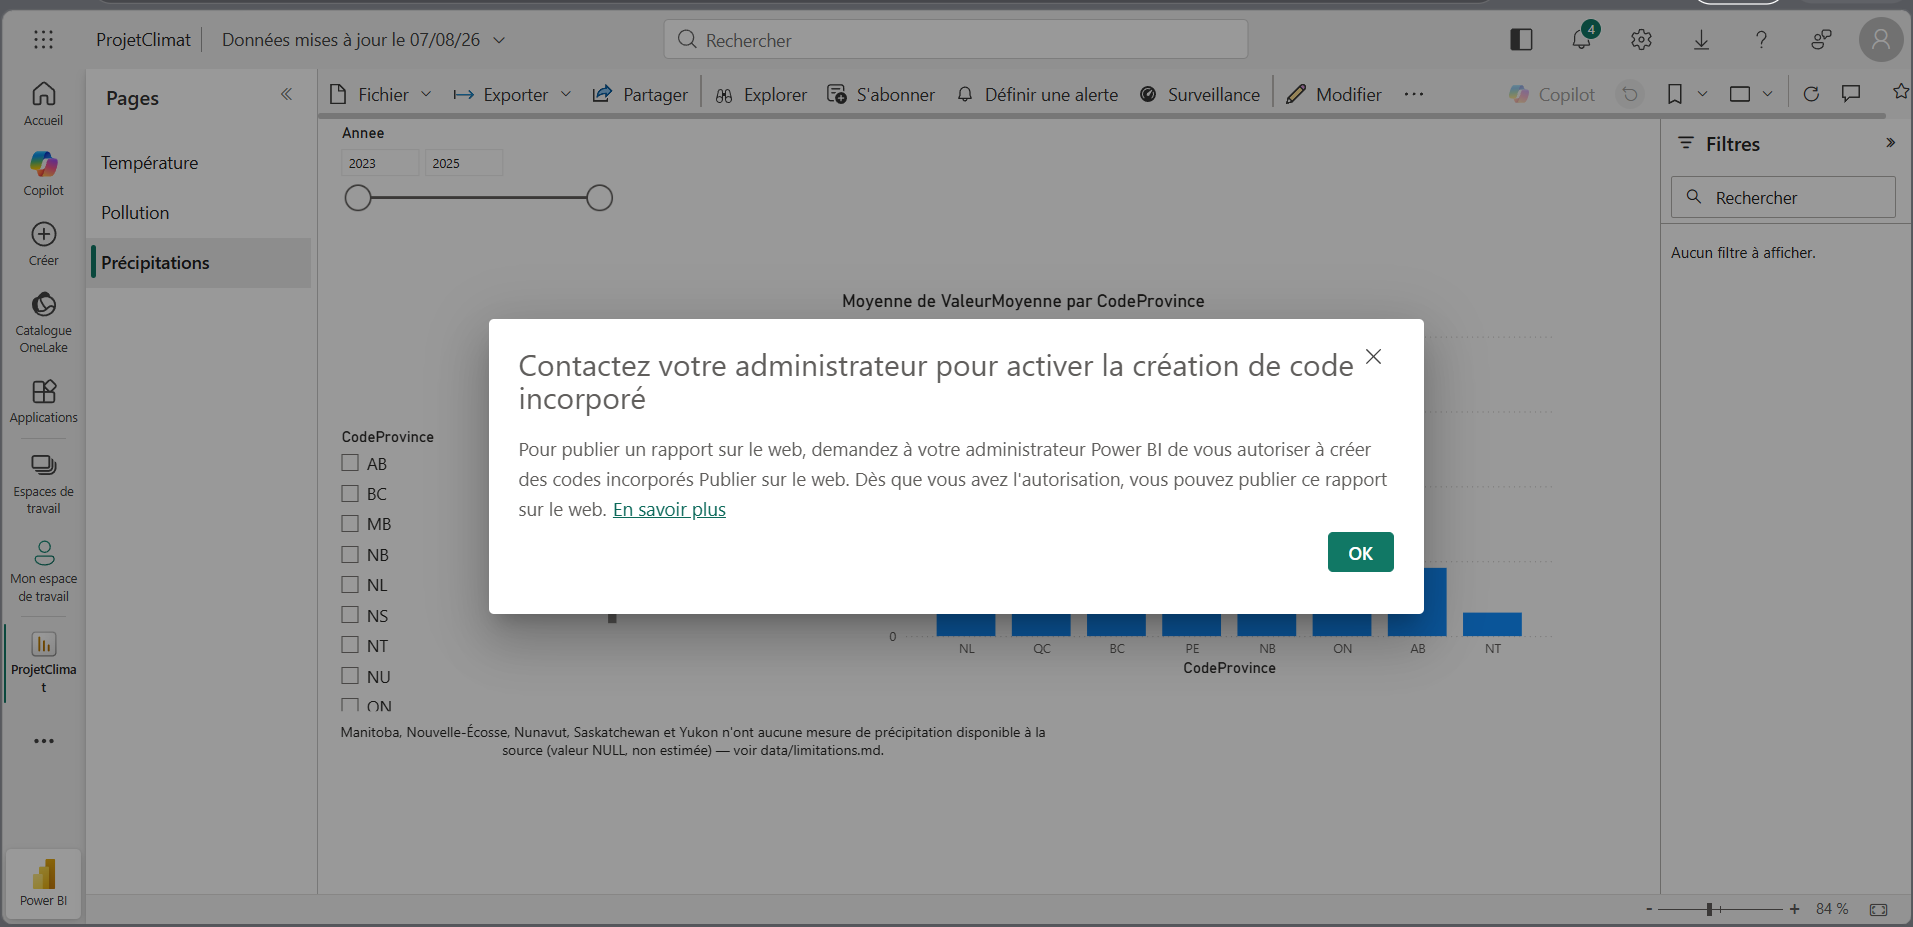

Layout of this report page (visuals, bound fields, positions):
{"tool":"powerbi","page":{"name":"Précipitations","canvas":[1280,720],"ordinal":2},"visuals":[{"type":"slicer","fields":{"Values":["vwPrecipitations.Annee"]},"box":[10,0,280,280],"z":0},{"type":"slicer","fields":{"Values":["vwPrecipitations.CodeProvince"]},"box":[10,290,280,280],"z":1000},{"type":"clusteredColumnChart","fields":{"Category":["vwPrecipitations.CodeProvince"],"Y":["Avg(vwPrecipitations.ValeurMoyenne)"]},"box":[495,163.8,688.8,373.8],"z":2000},{"type":"textbox","box":[10,570,696.2,50],"z":3000}]}

Visuals, with their boxes on the page's 1280x720 design canvas (x1, y1, x2, y2). These are canvas units, not pixel positions in the 1913x927 screenshot, which may show the page scaled, cropped or inside an application window:
slicer - vwPrecipitations.Annee: <bbox>10, 0, 290, 280</bbox>
slicer - vwPrecipitations.CodeProvince: <bbox>10, 290, 290, 570</bbox>
clusteredColumnChart - vwPrecipitations.CodeProvince x Avg(vwPrecipitations.ValeurMoyenne): <bbox>495, 164, 1184, 538</bbox>
textbox: <bbox>10, 570, 706, 620</bbox>
